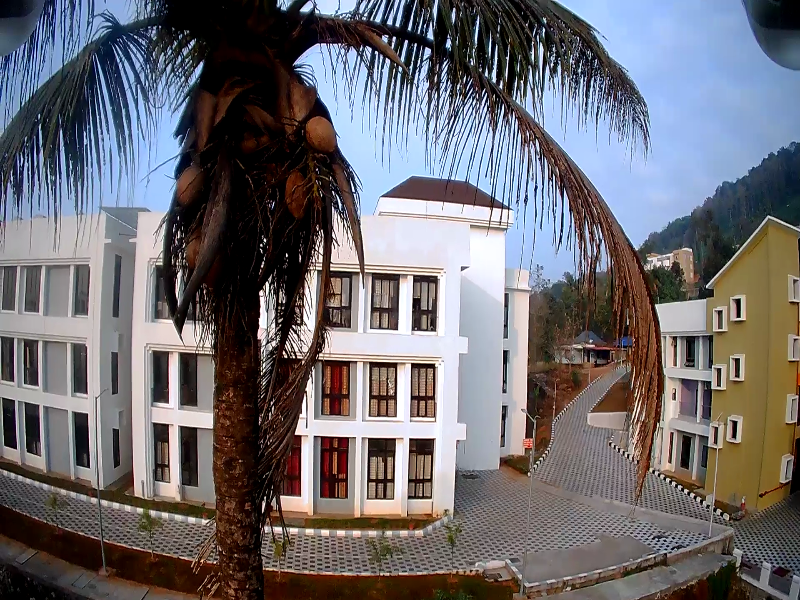coconut: (300, 109, 337, 160), (168, 160, 202, 207), (288, 175, 311, 220), (179, 234, 208, 267)
